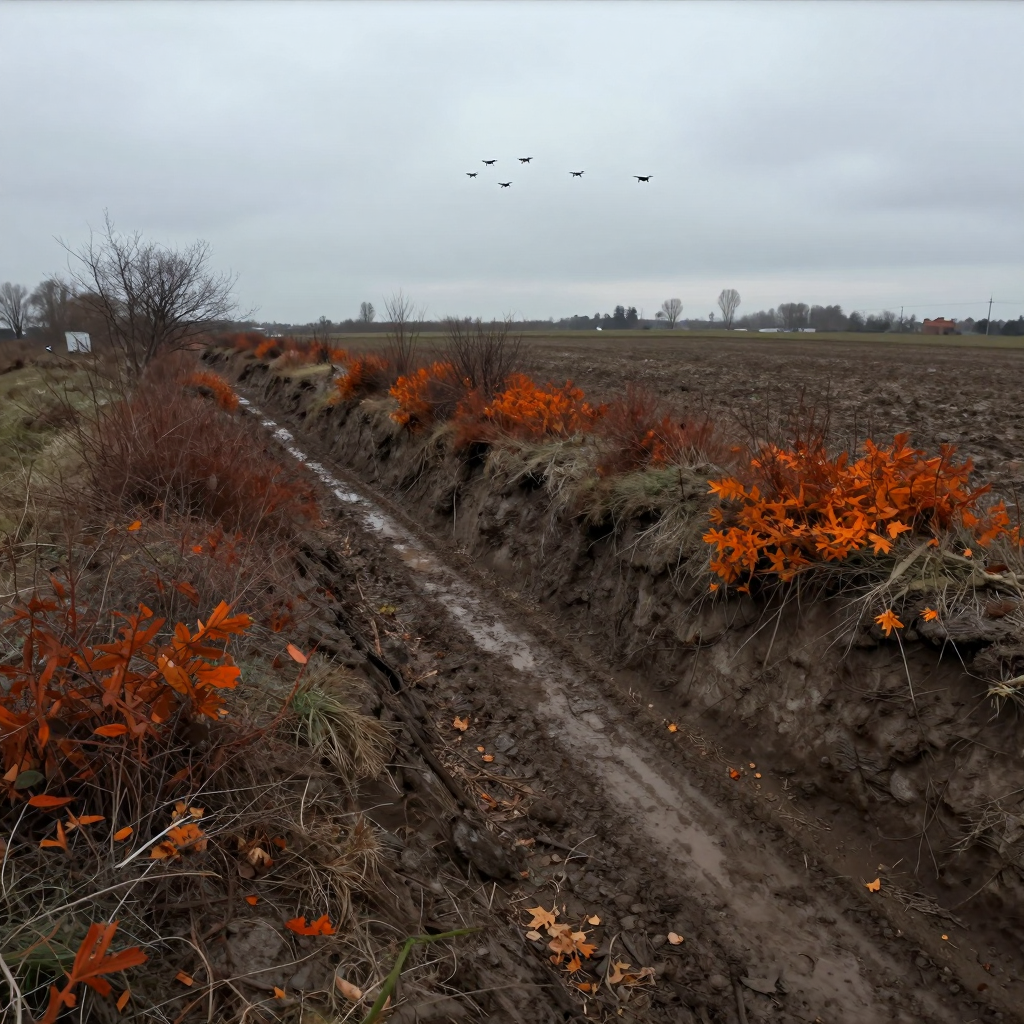drone: (632, 176, 654, 183), (569, 171, 585, 178), (517, 157, 533, 164), (482, 160, 498, 167), (498, 182, 513, 189), (466, 172, 478, 179)
